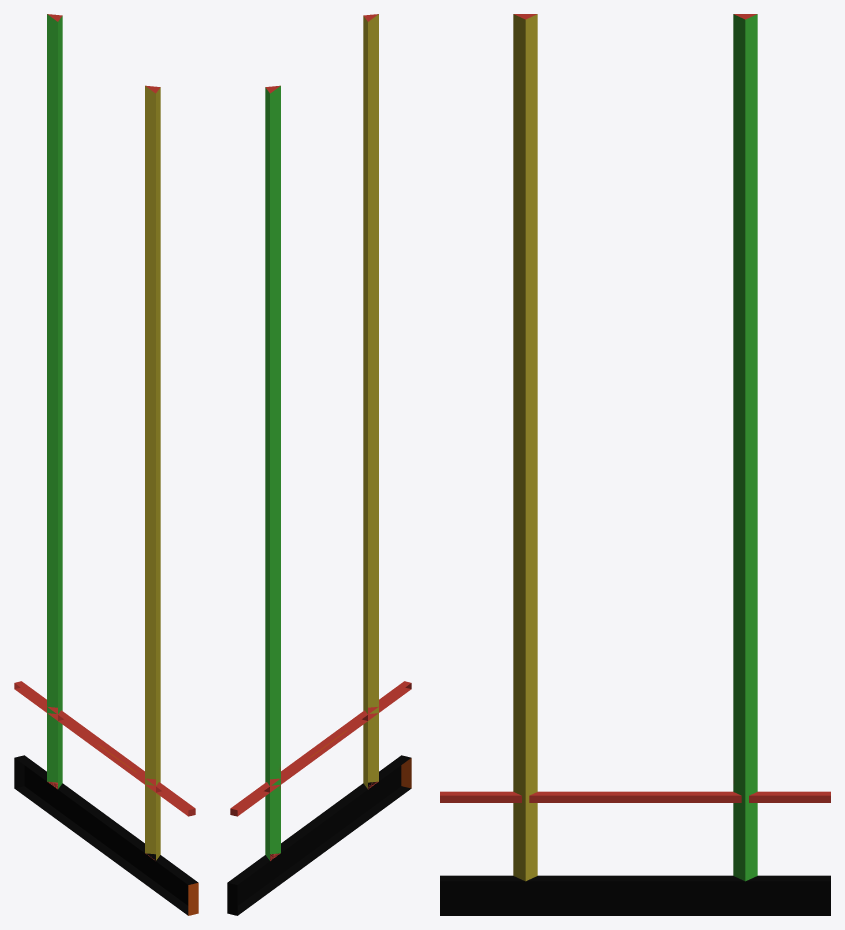
The model's file is BeatMap.fbx.
The picture shows the model from 3 angles, left to right: view 1: azimuth 30°, elevation 25°; view 2: azimuth 150°, elevation 25°; view 3: azimuth 270°, elevation 25°; orthographic projection. The views are drawn at different scales.
Visible parts, largest first — view 1: Cube; view 2: Cube; view 3: Cube.
Boxes of the visible parts, x1=… form: Cube: x1=14, y1=14, x2=198, y2=915; Cube: x1=227, y1=14, x2=411, y2=915; Cube: x1=440, y1=14, x2=830, y2=915.
Bounding box in the file's own units: 15.34 × 1140 × 451.
